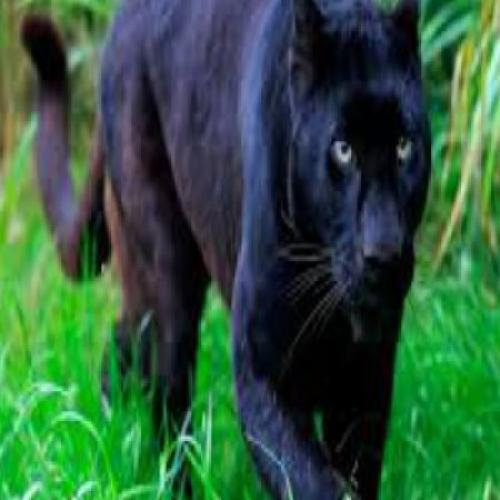panther-endangered: (19, 0, 433, 499)
